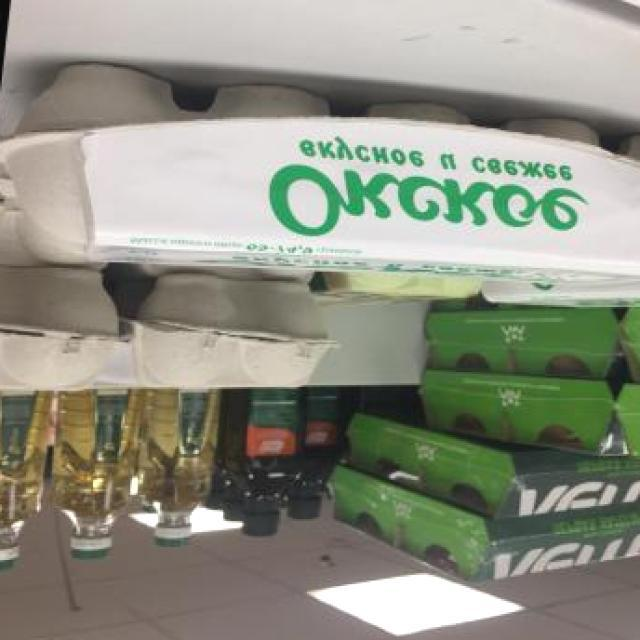egg: (0, 54, 640, 304), (130, 269, 352, 406), (43, 381, 149, 579), (0, 260, 141, 399), (133, 381, 226, 566), (214, 384, 305, 548), (0, 378, 60, 588), (274, 384, 349, 533)
